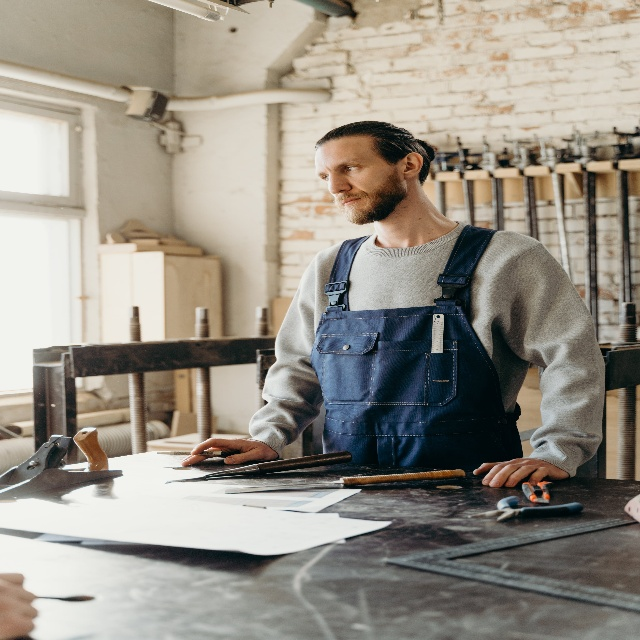Sin_guantes: (472, 455, 569, 489), (183, 435, 276, 464)
